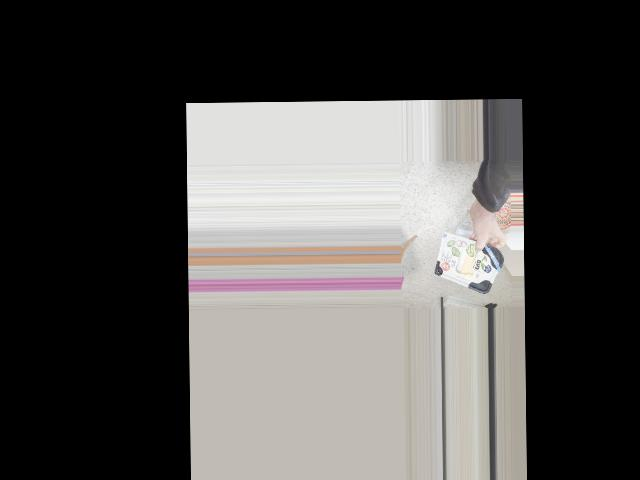cheese: (434, 241, 506, 289)
